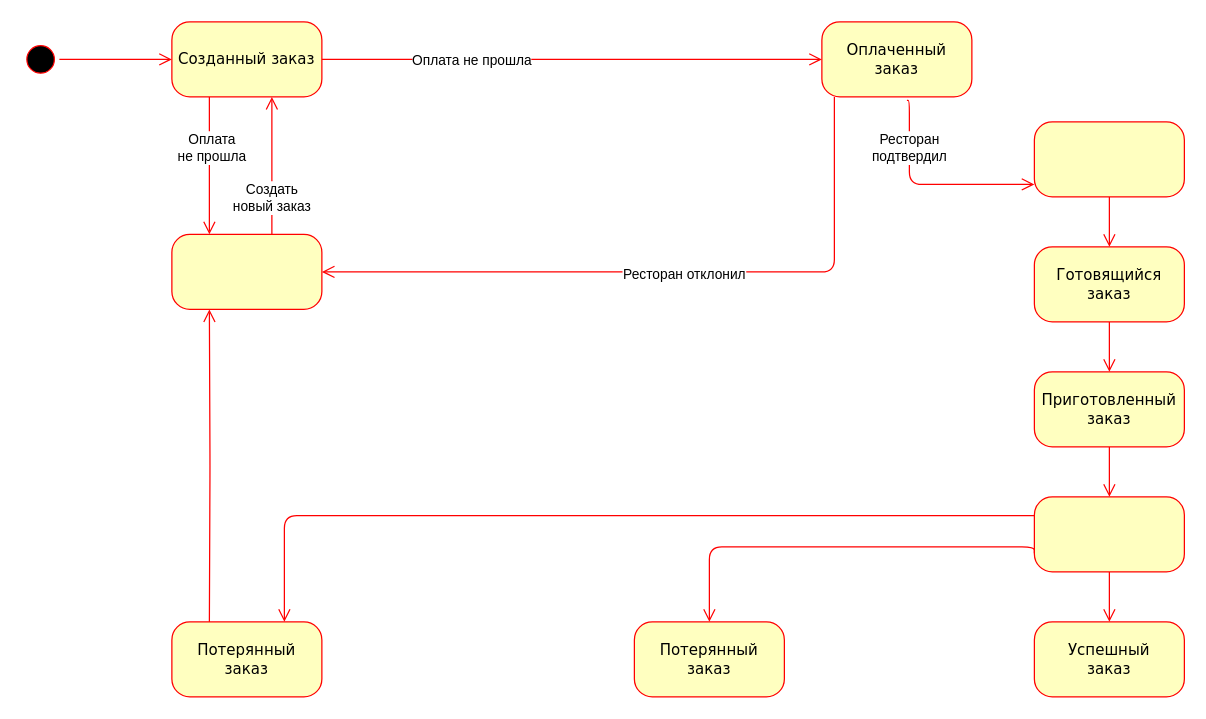
Image size: 1206x719. Some labels were removed from this diagram. Here are the shapes that lost their labels. From the top down, the centre of each, then its label:
the point at 1108,159: Подтвержденный заказ
the point at 246,271: Отмененный заказ
the point at 1108,534: Доставление заказа
